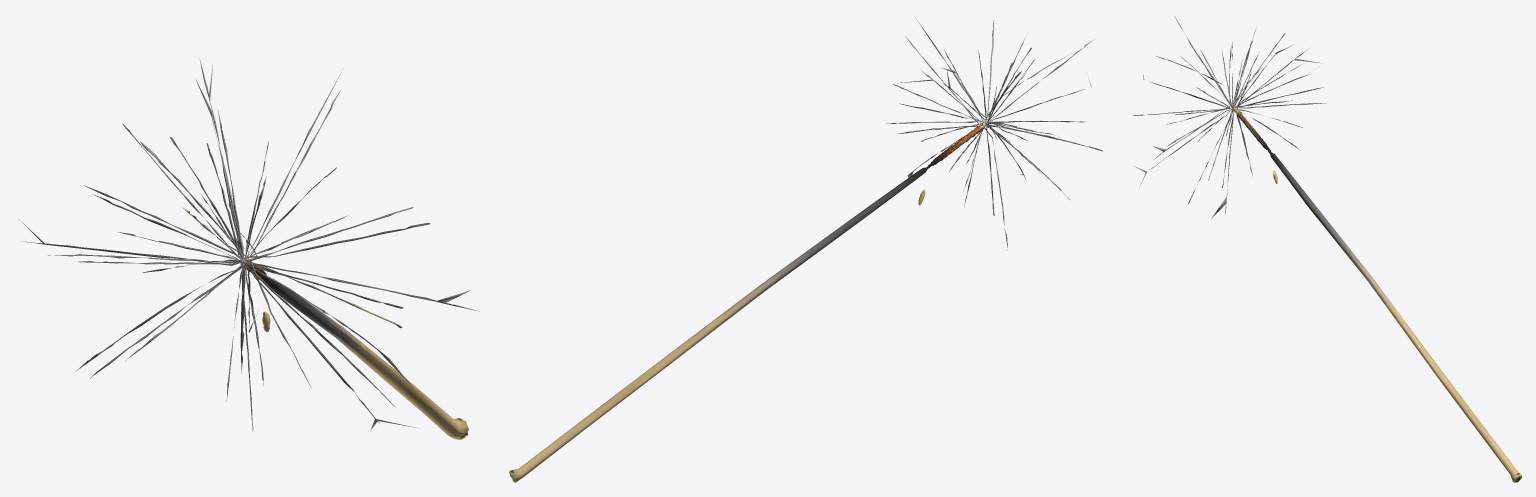
3 renders of one model, left to right at view 1: azimuth 30°, elevation 25°; view 2: azimuth 150°, elevation 25°; view 3: azimuth 270°, elevation 25°, orthographic. The views are drawn at different scales.
Visible parts, largest first — view 1: tripo_node_04a820fd; view 2: tripo_node_04a820fd; view 3: tripo_node_04a820fd.
Boxes of the visible parts, bbox=[...] form: tripo_node_04a820fd: bbox=[18, 59, 478, 439]; tripo_node_04a820fd: bbox=[509, 17, 1103, 482]; tripo_node_04a820fd: bbox=[1133, 16, 1521, 482].
Bounding box in the file's own units: 0.998 × 0.9434 × 0.998.
1 material, 1 textured.
